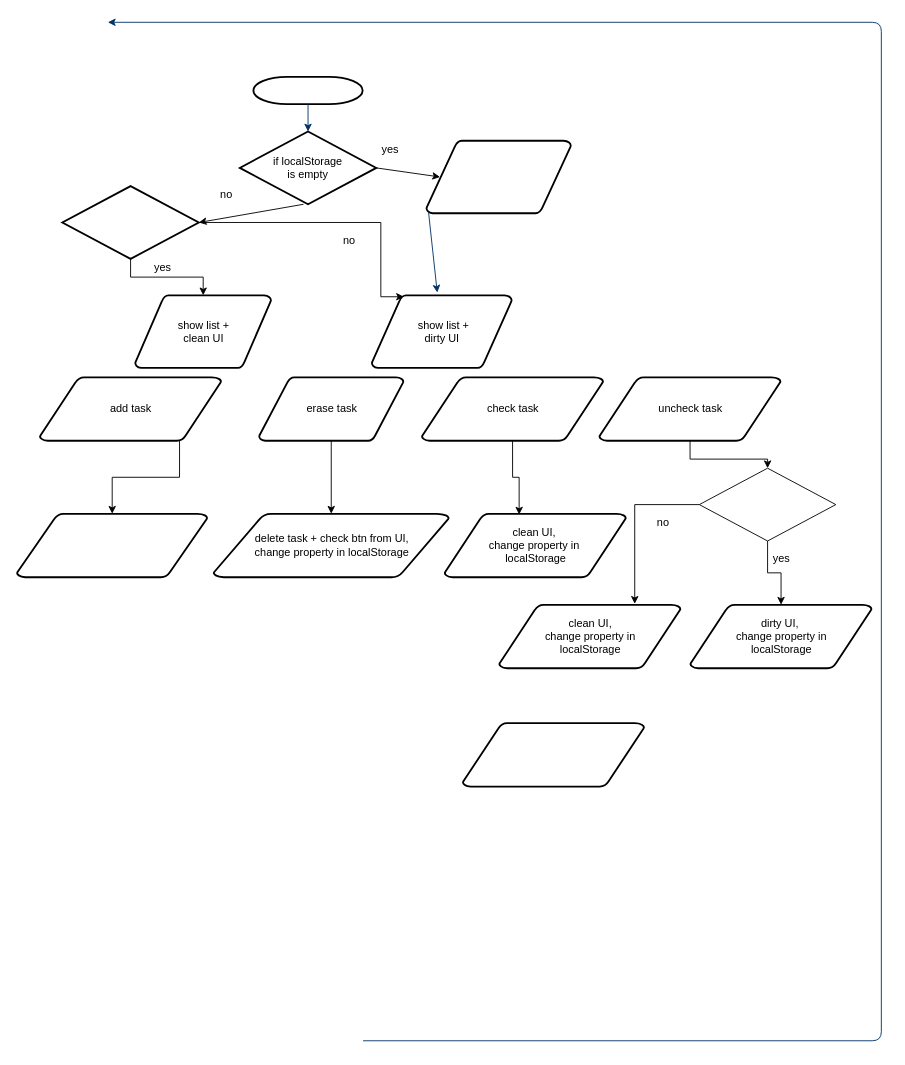
Some shapes in this 905 by 1065 pixel diagram are drawn without their labels. The box of each missing label's shape, as (x1, y1, x2, y2) in pixels:
check monthly overview???: (461, 722, 645, 787)
create task + check btn, add object to localStorage: (15, 512, 208, 578)
if checked tasks < 1: (698, 467, 836, 541)
if task checked today: (61, 185, 199, 259)
show welcome page, press start button: (425, 139, 571, 214)
start: (252, 76, 363, 105)
